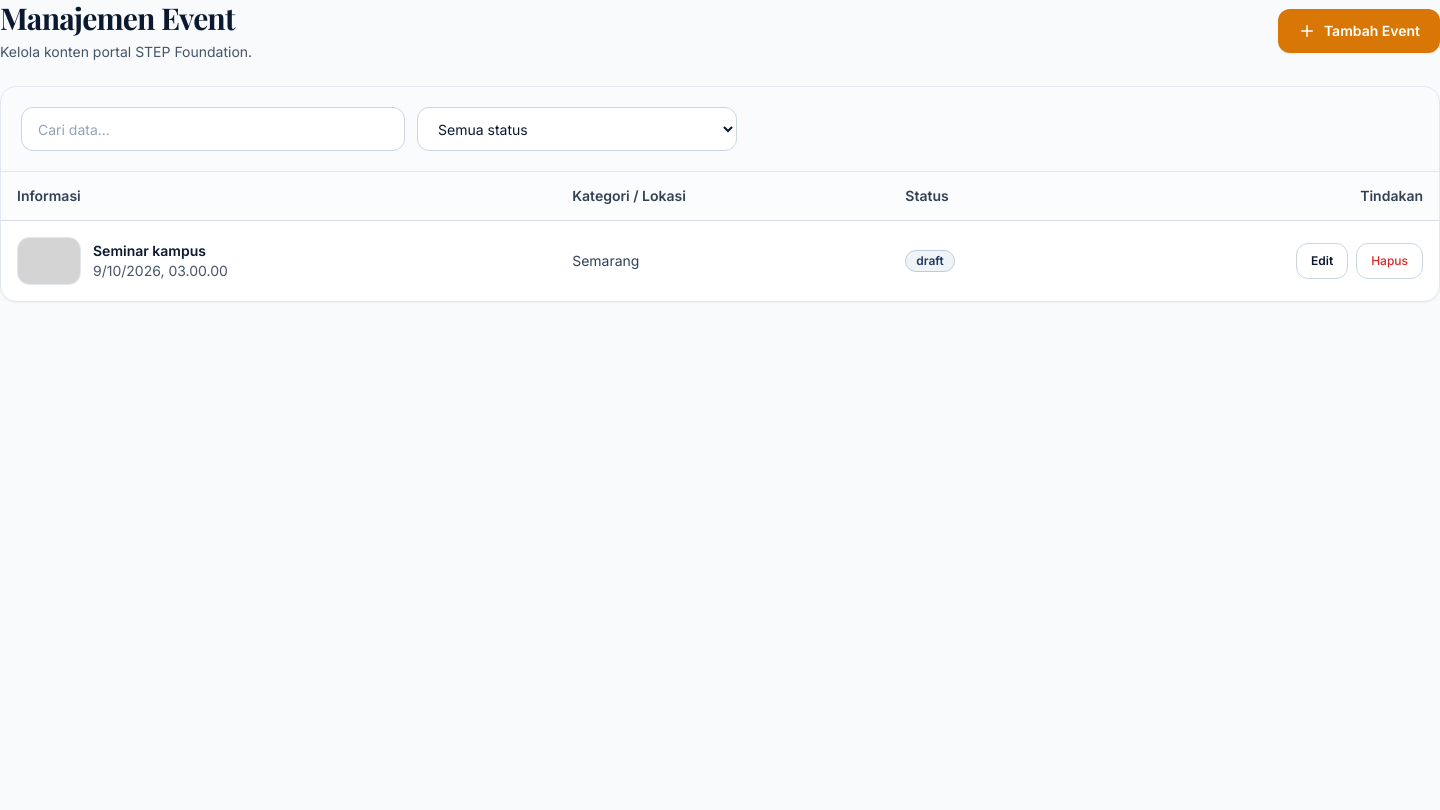
Test: events deletion requires confirmation, refreshes the shared list, and supports cancellation
expect the text "Seminar kampus" is shown: met, box [93,242,206,258]
Step 1. Click the button "Hapus" → click(1390, 260), box [1356,242,1423,278]
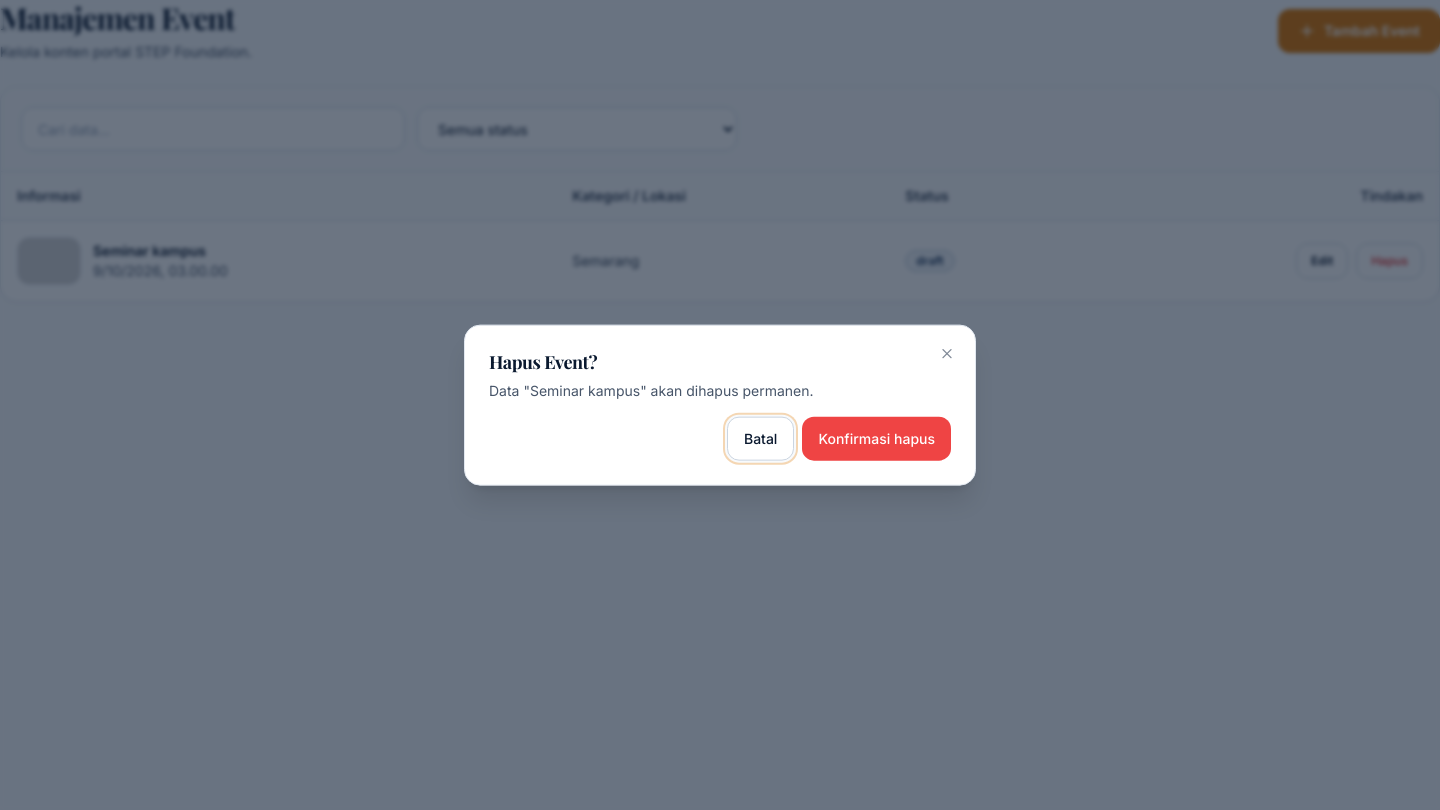
Step 2. Click the button "Batal" → click(761, 438), box [727,416,794,460]
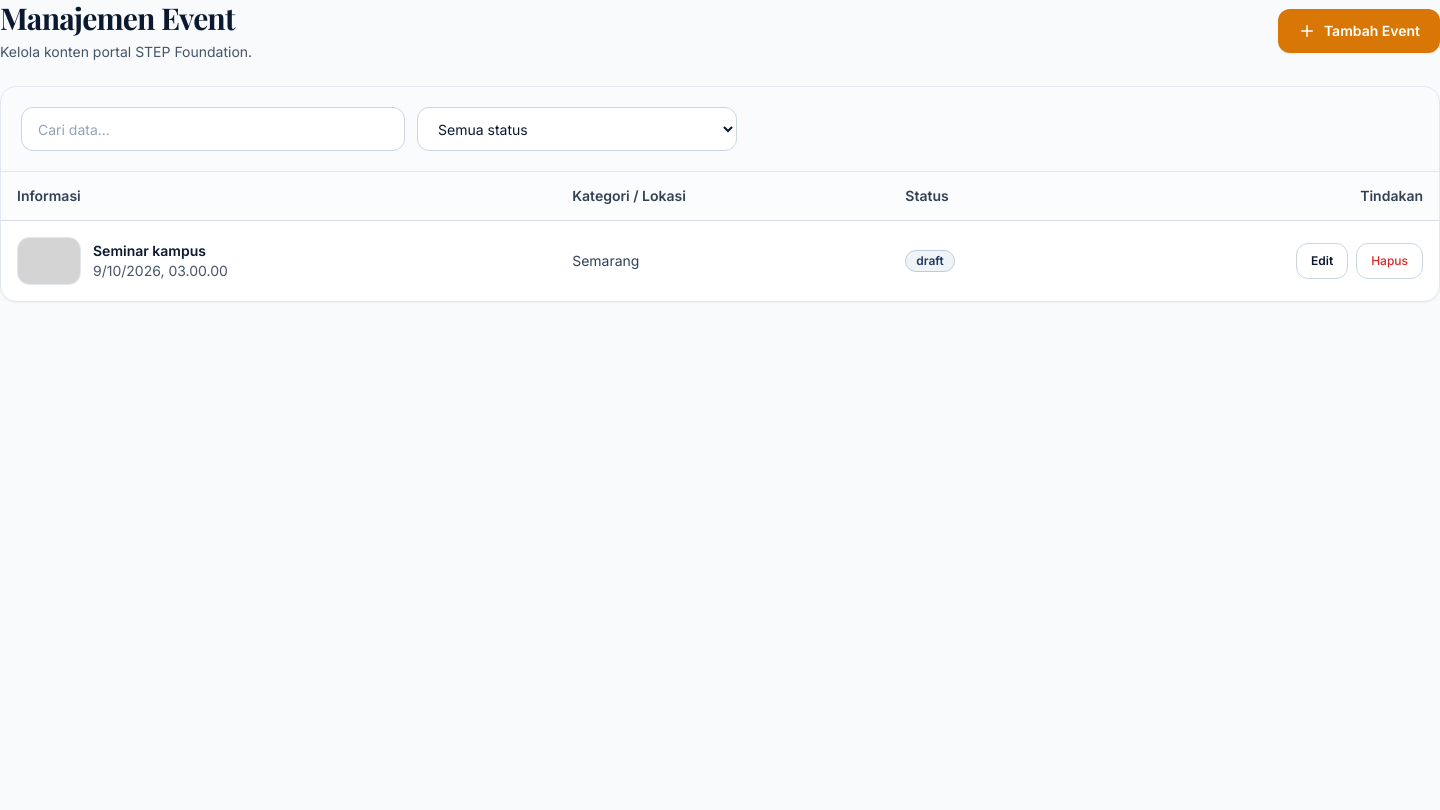
Step 3. Click the button "Hapus" → click(1390, 260), box [1356,242,1423,278]
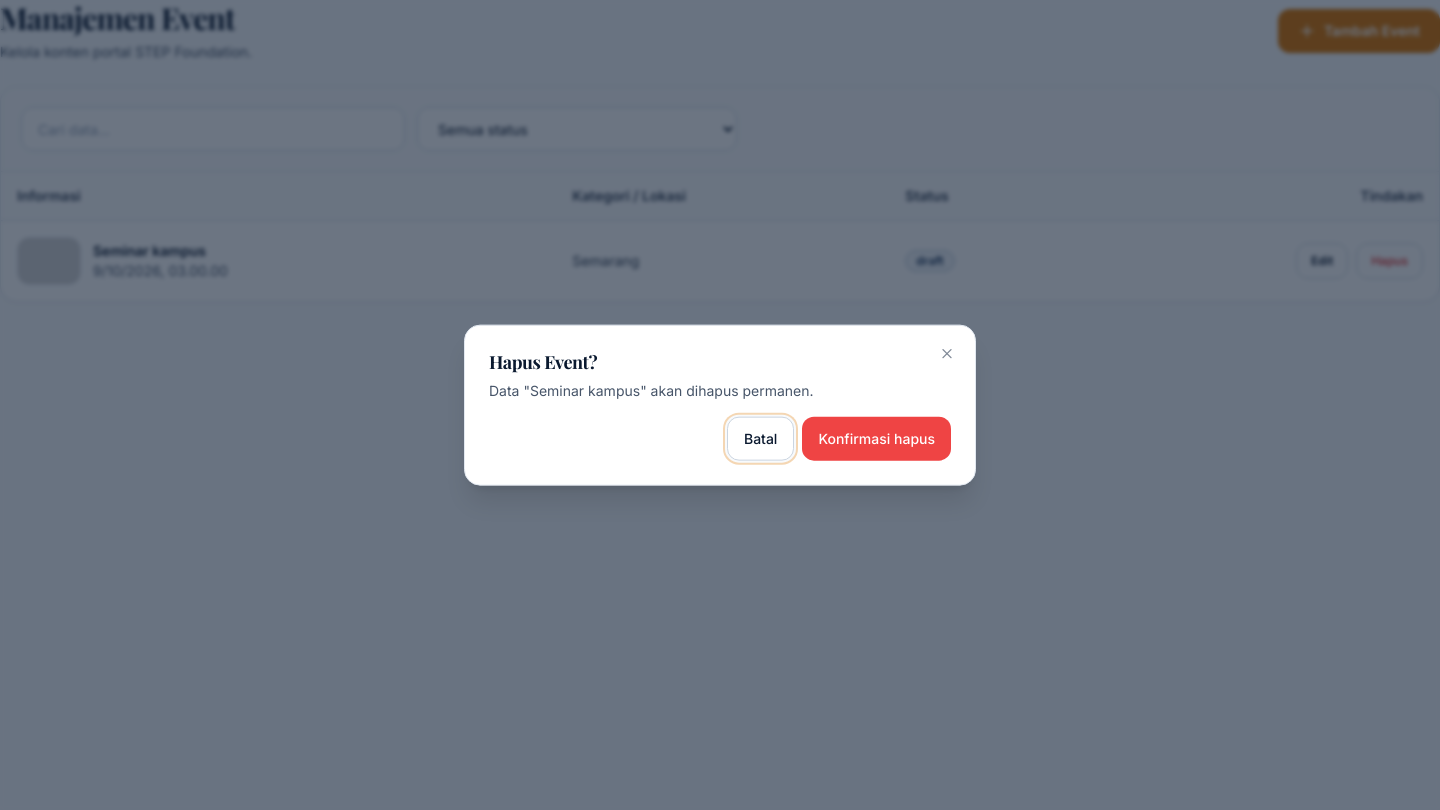
Step 4. Click the button "Konfirmasi hapus" → click(877, 438), box [802,416,951,460]
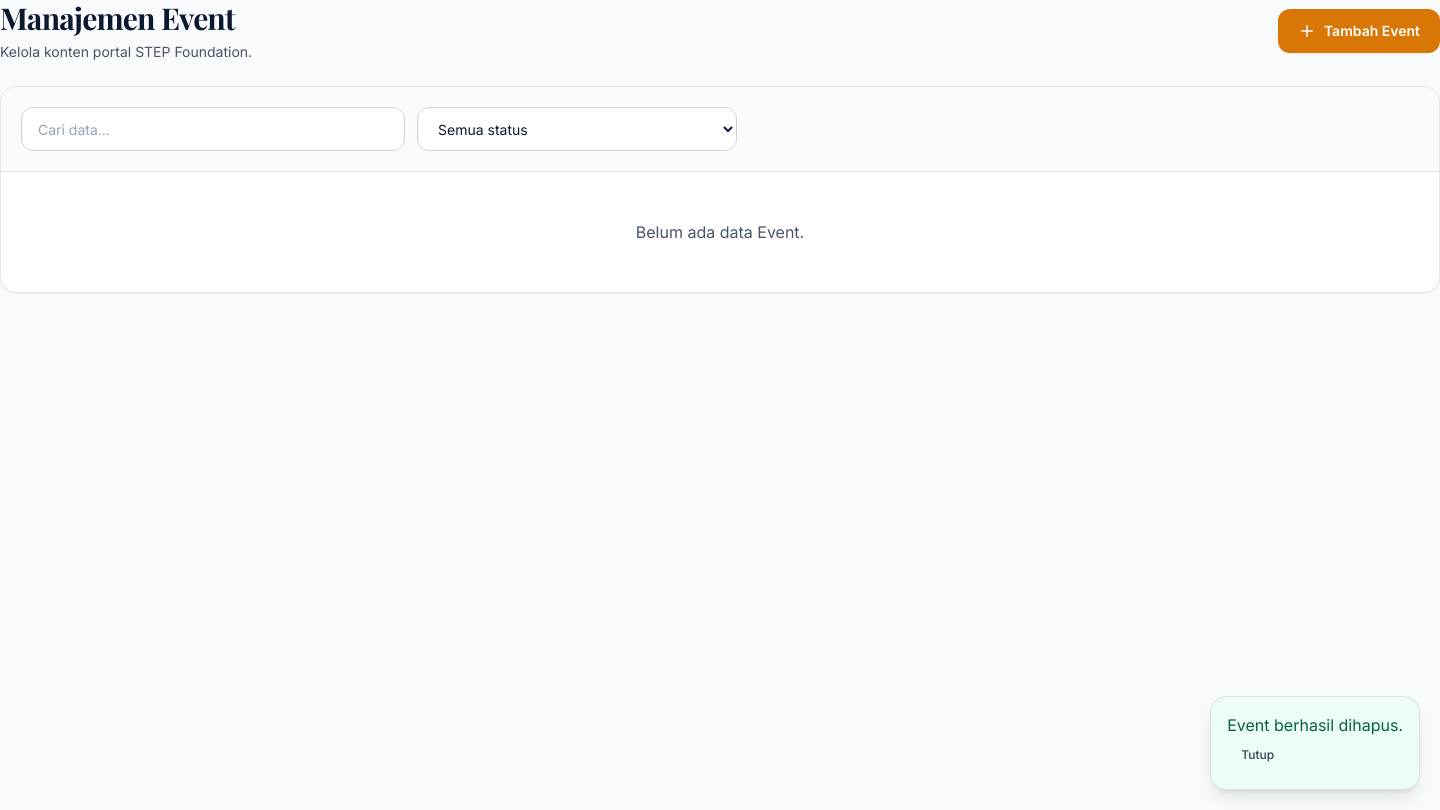
expect the text "Belum ada data Event." is shown: met, box [636,222,804,242]
